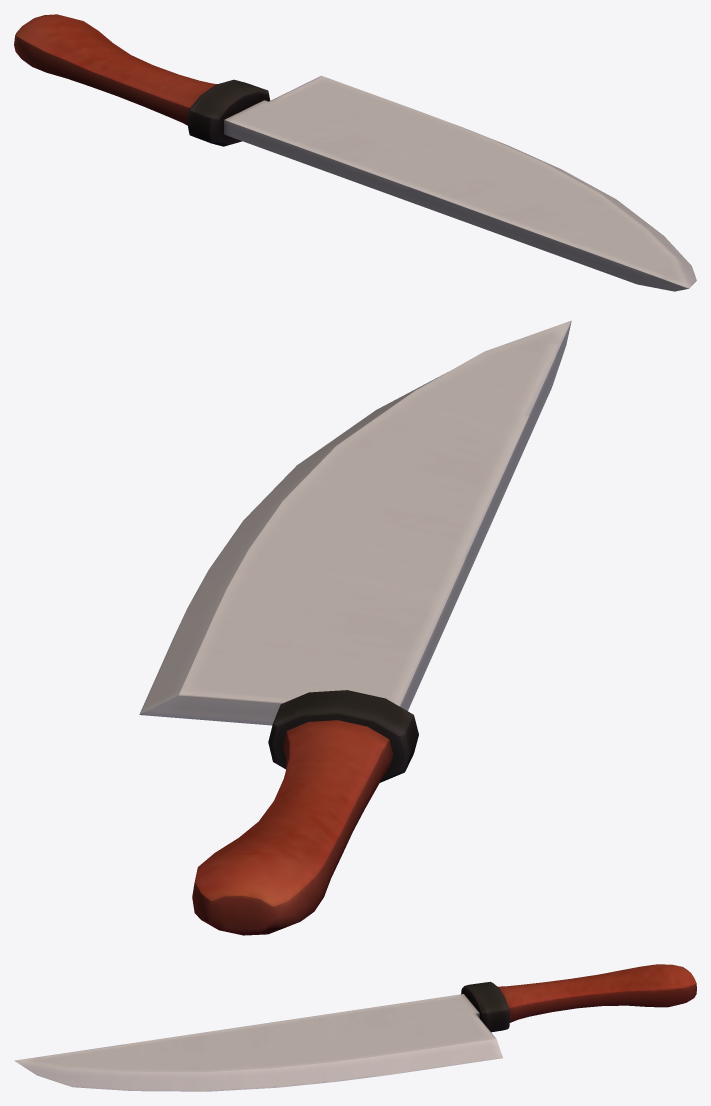
File: Knife.fbx
3 renders of one model, top to bottom at view 1: azimuth 30°, elevation 25°; view 2: azimuth 150°, elevation 25°; view 3: azimuth 270°, elevation 25°, orthographic. The views are drawn at different scales.
Parts seen in each view (by area): view 1: Knife; view 2: Knife; view 3: Knife.
Part boxes in pixels (left/top/right/bottom): Knife: left=14, top=14, right=696, bottom=291; Knife: left=139, top=320, right=571, bottom=935; Knife: left=14, top=964, right=696, bottom=1091.
Size of the model in its own units: 55.28 by 8.79 by 140.
Materials: 1 (1 with a texture image).
